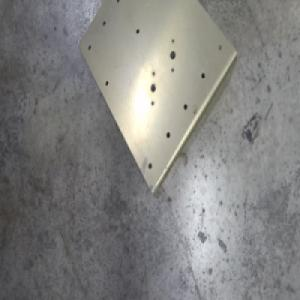MetalSheet: (76, 0, 238, 199)
